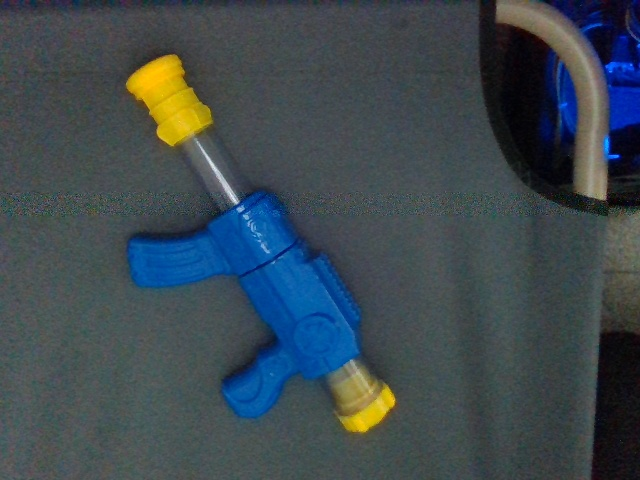toy: (125, 54, 396, 435)
